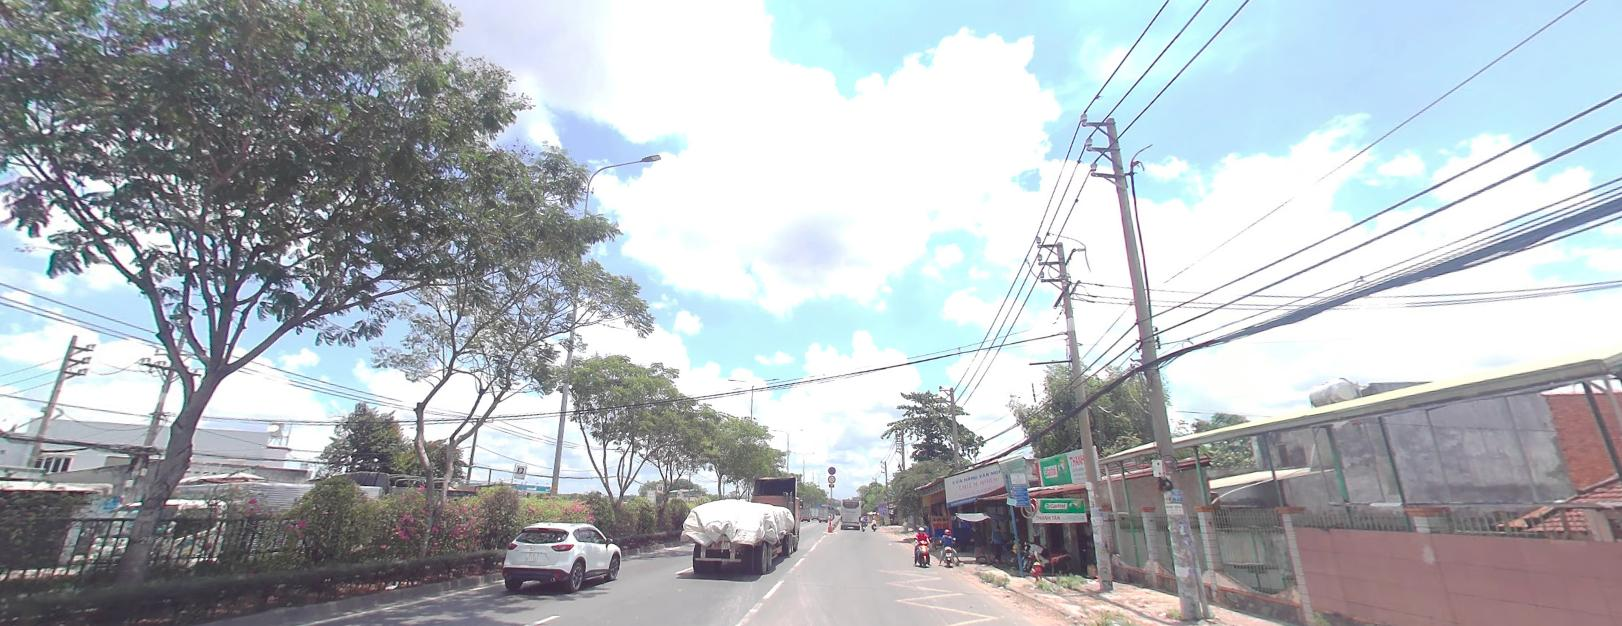Cam con lai: (827, 474, 834, 481)
Cam dung va do: (828, 466, 835, 473)
